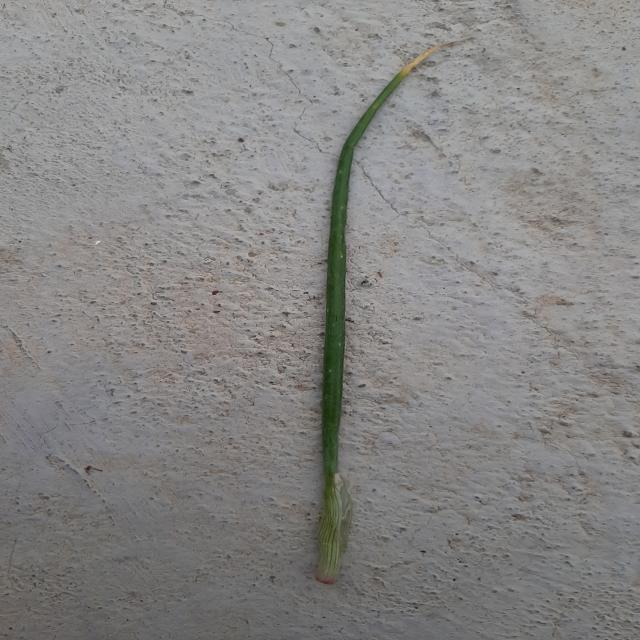onion: (317, 38, 471, 584)
